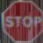Stop: (3, 0, 42, 41)
